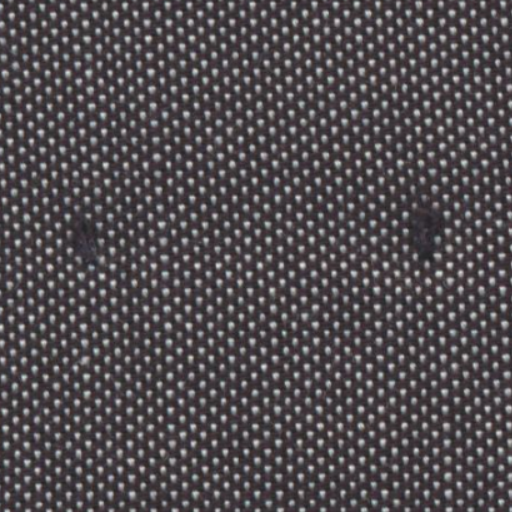MianQiu: (396, 190, 460, 264), (60, 198, 116, 268)
